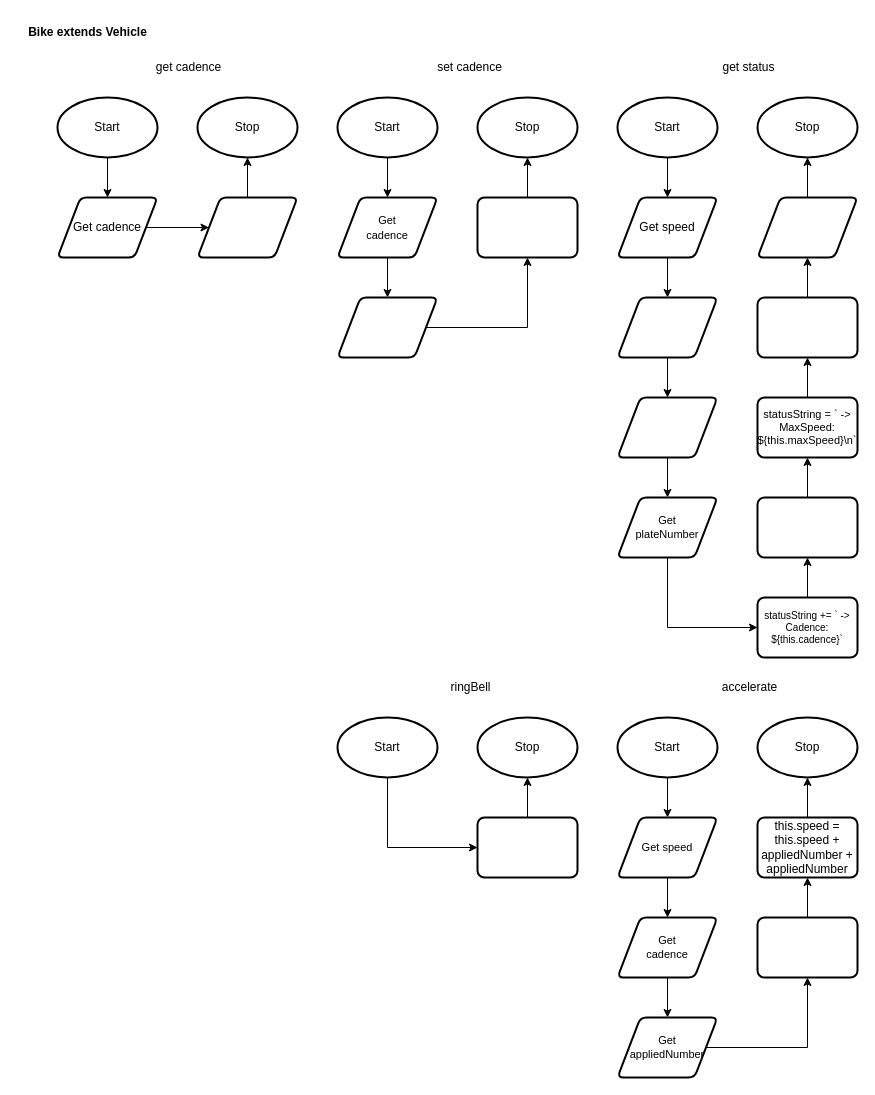
This 875x1095 diagram has some shape labels left out. Each missing label, with the box of its shape:
console.log( "Ding ding!\n"): (476, 816, 578, 878)
Get colour: (616, 396, 718, 458)
Get maxSpeed: (616, 296, 718, 358)
Get newCadence: (336, 296, 438, 358)
return statusString: (756, 196, 858, 258)
return this.cadence: (196, 196, 298, 258)
statusString = ` -> Color: ${this.colour}`: (756, 296, 858, 358)
statusString = ` -> Speed: ${this.speed}\n`: (756, 496, 858, 558)
this.cadence = newCadence: (476, 196, 578, 258)
this.cadence = this.cadence + appliedNumber: (756, 916, 858, 978)
